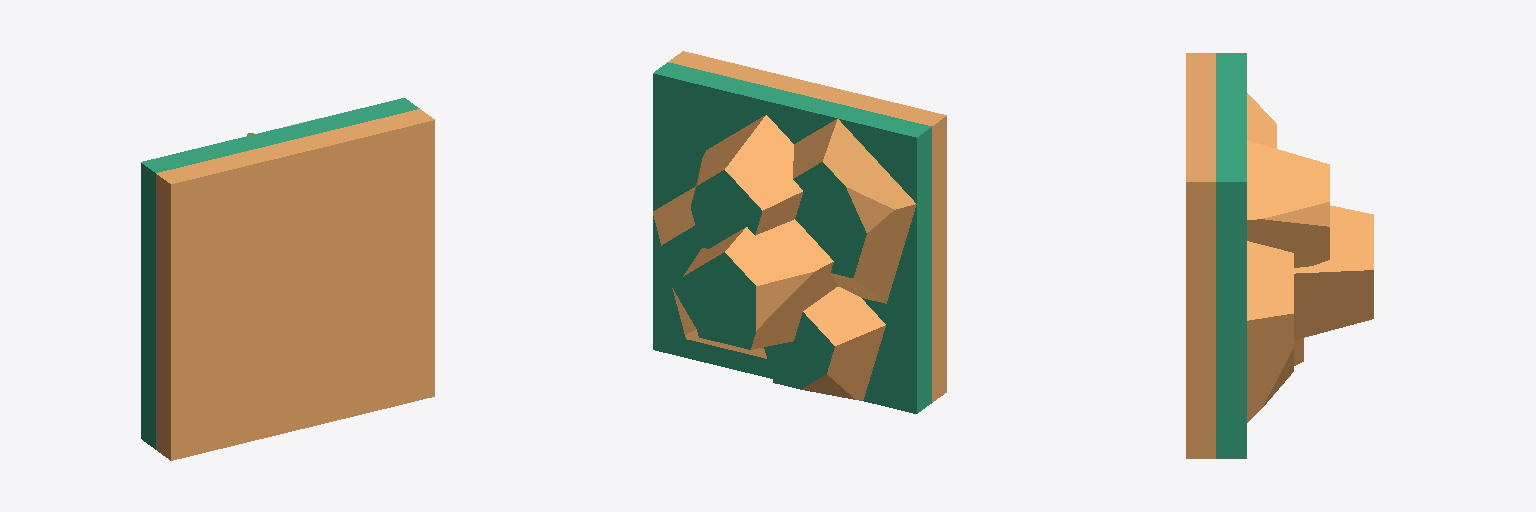
Rendered from tile_rock.obj.
3 views of the same model, side by side, from view 1: azimuth 30°, elevation 25°; view 2: azimuth 150°, elevation 25°; view 3: azimuth 270°, elevation 25° (orthographic).
Parts seen in each view (by area): view 1: tile_rock; view 2: tile_rock; view 3: tile_rock.
Part boxes in pixels (left/top/right/bottom): tile_rock: left=141, top=98, right=434, bottom=460; tile_rock: left=653, top=51, right=946, bottom=413; tile_rock: left=1186, top=53, right=1373, bottom=458.
Size of the model in its own units: 1 by 1 by 0.6186.